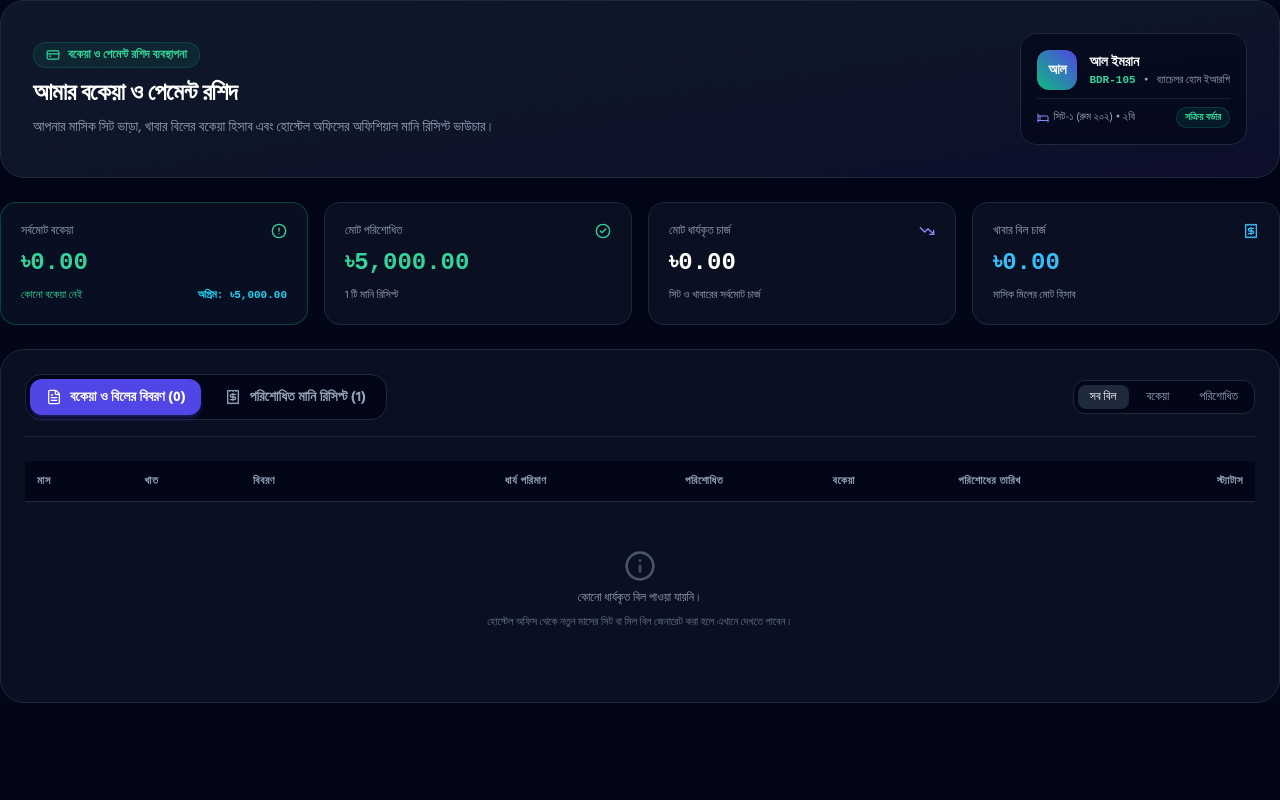
Scenario: BoarderDuesPage.test.tsx - Boarder Portal Dues & Receipts › allows switching to official receipts tab and viewing receipt vouchers
Click the button "পরিশোধিত মানি রিসিপ্ট (1)".
click(296, 396)  # box [210,378,382,414]
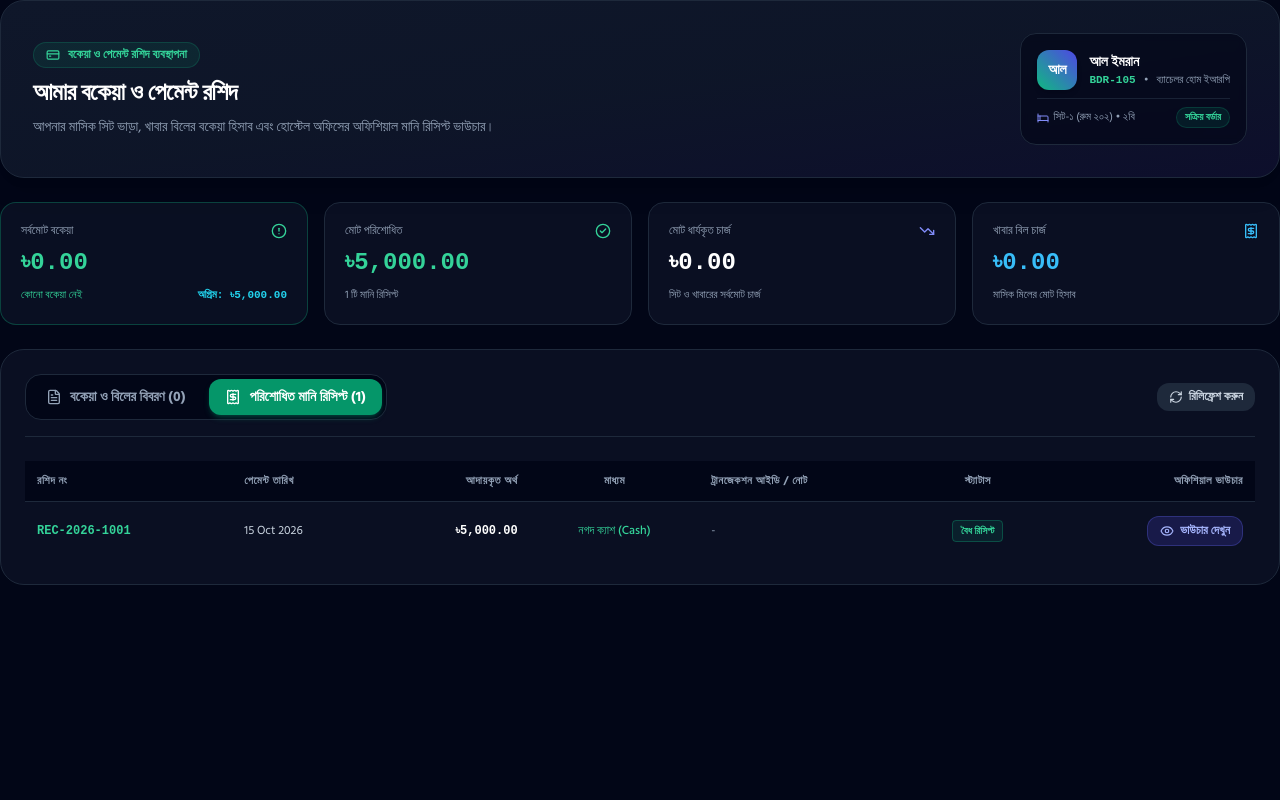
Check: the text "REC-2026-1001" is shown, box [25,501,232,560]
Check: the text "নগদ ক্যাশ (Cash)" is shown, box [578,520,650,540]
Check: the text "বৈধ রিসিপ্ট" is shown, box [952,520,1003,542]
Clicking voucher button opens printable modal
Click the button "ভাউচার দেখুন".
click(1195, 530)  # box [1147,516,1243,546]
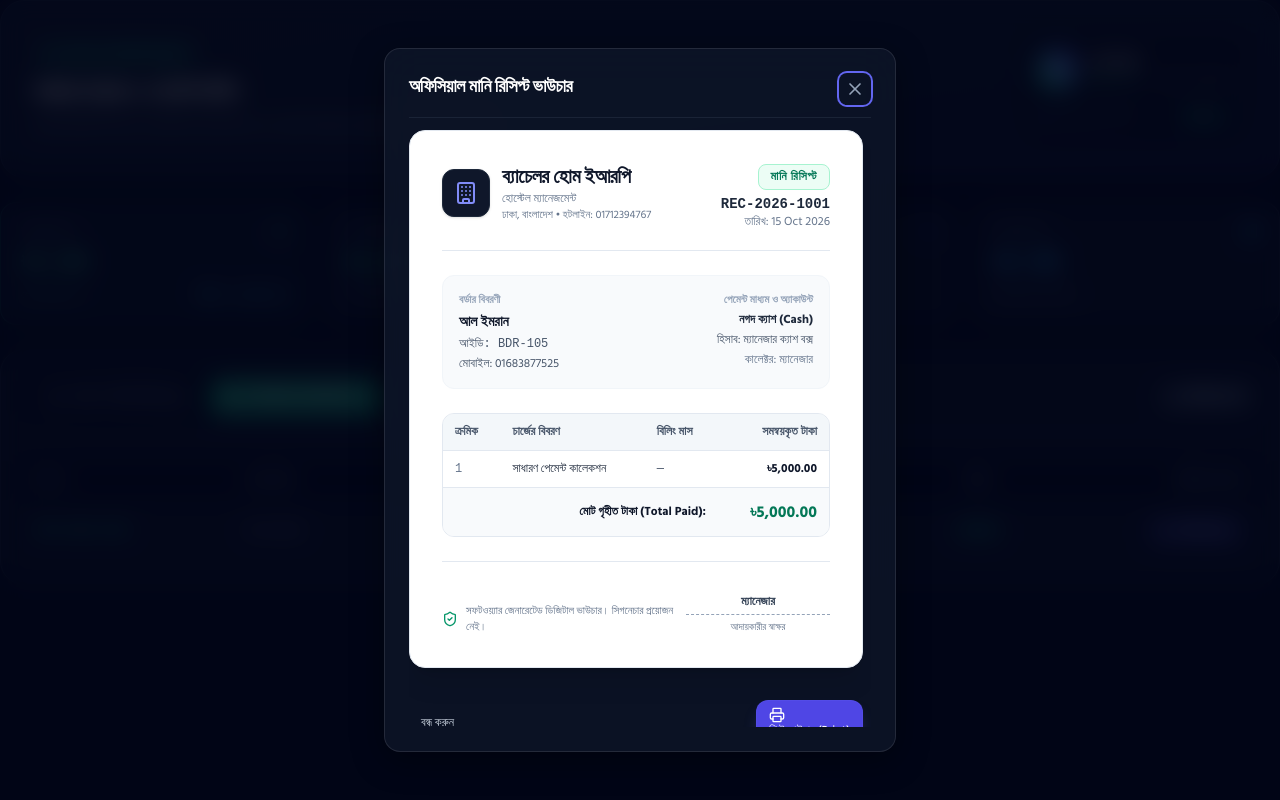
Check: the heading "অফিসিয়াল মানি রিসিপ্ট ভাউচার" is shown, box [409,73,572,101]
